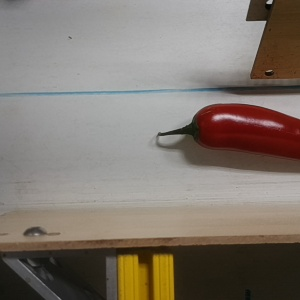Cut Point: (185, 104, 212, 147)
